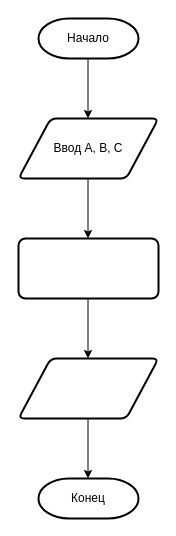
The diagram is 176 pixels wide and 536 high, and some of its shapes have lost their labels. Here are the shapes that lost their labels. From the top down, the box of each, then its label:
(17, 237, 159, 299): result = (A%3==0) && (B%3==0) && (C%3==0)
(17, 357, 159, 419): Вывод result
